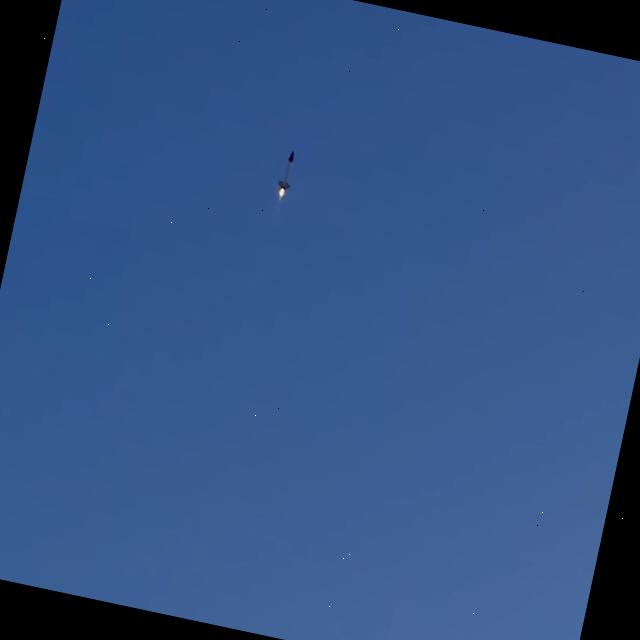rocket: (276, 150, 293, 201)
